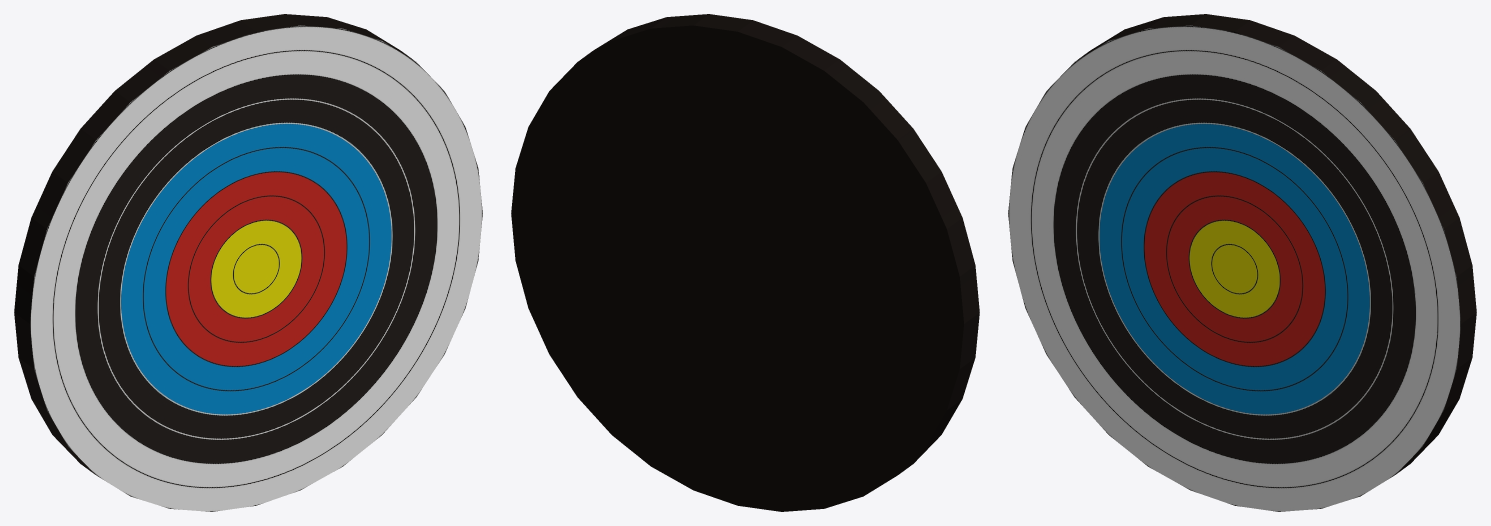
File: target.glb
3 views of the same model, side by side, from view 1: azimuth 30°, elevation 25°; view 2: azimuth 150°, elevation 25°; view 3: azimuth 330°, elevation 25° (orthographic).
Visible parts, largest first — view 1: Cylinder; view 2: Cylinder; view 3: Cylinder.
Part boxes in pixels (x1,y1,x2,y2): Cylinder: (14,14,482,511); Cylinder: (511,14,979,511); Cylinder: (1008,14,1476,511).
Bounding box in the file's own units: 2 × 2 × 0.12.
1 material, 1 textured.
